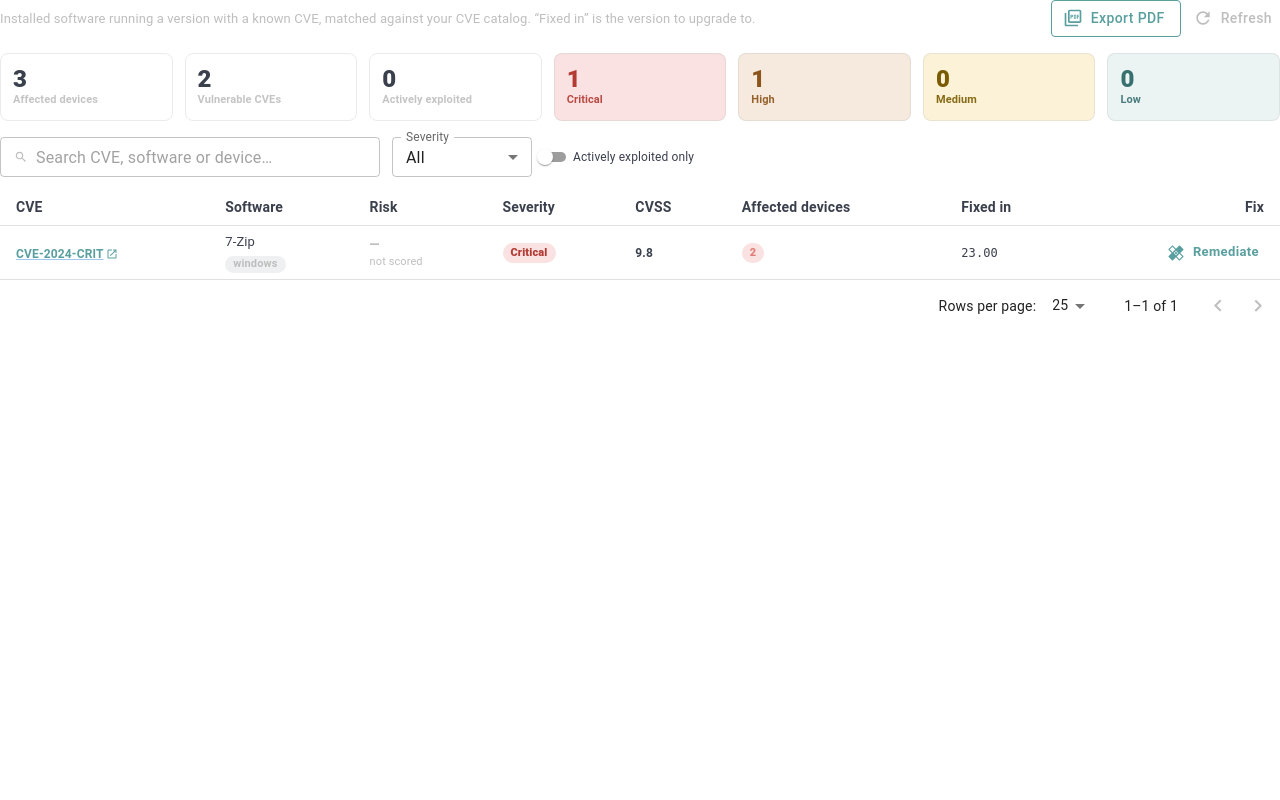
Test: qué equipos están afectados › ⚠️ con un backend que aún no manda la muestra, vuelve al texto de antes
This screenshot has width=1280, height=800.
Click the button "Remediate" at x=1214, y=253, box [1164,237,1264,268]
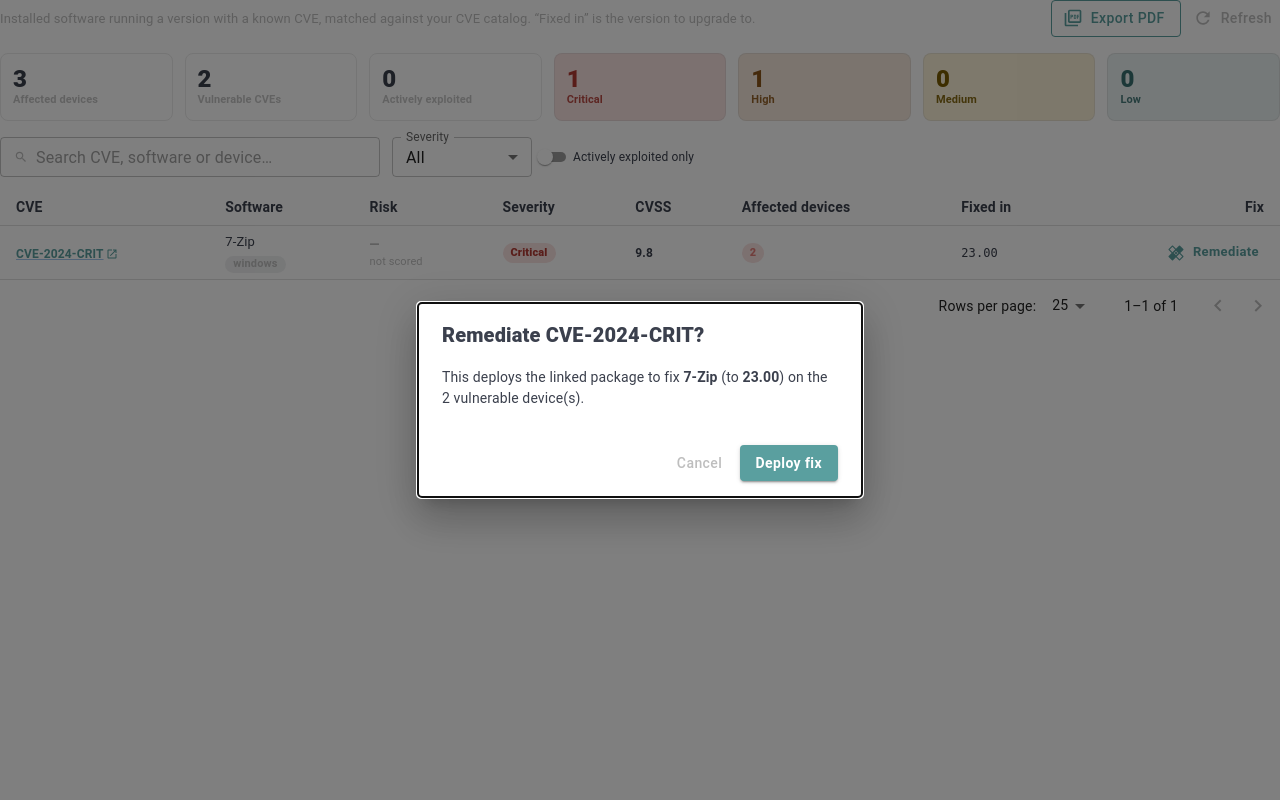
expect the text "on the 2 vulnerable device(s)" is shown: met, box [442,369,828,406]
